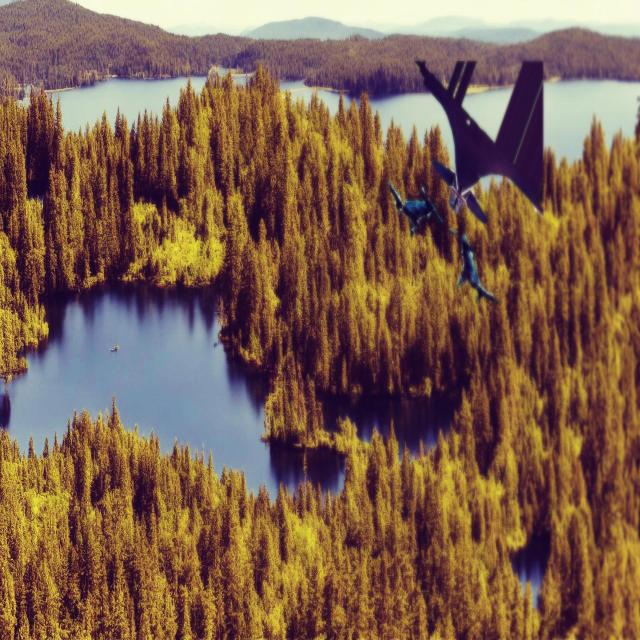airplane: (414, 57, 545, 223), (449, 225, 502, 304), (387, 181, 443, 237)
